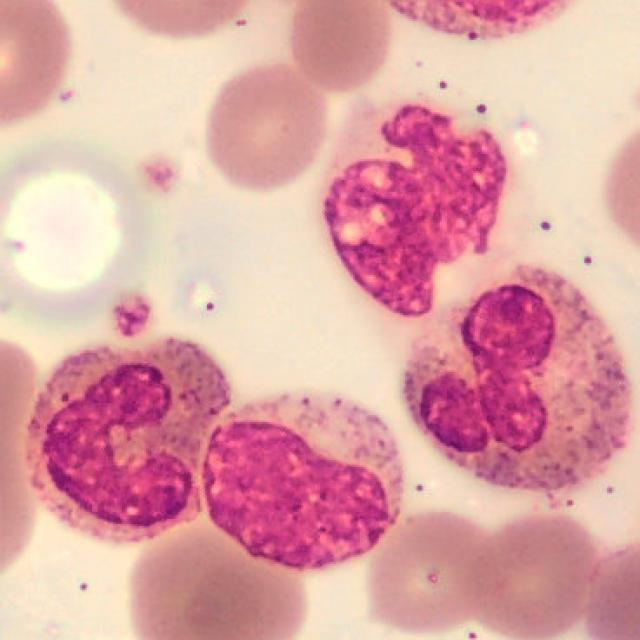Bastonete: (403, 272, 626, 498), (26, 336, 233, 538)
Metamielocito: (205, 393, 405, 573)
